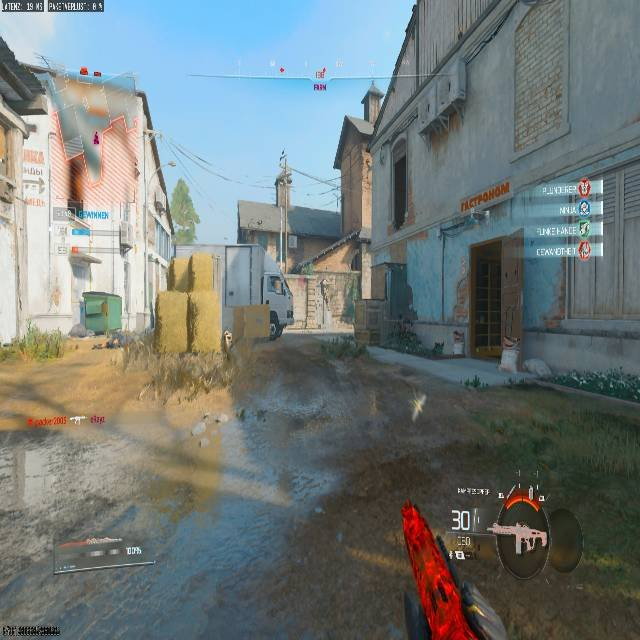player: (266, 277, 292, 339)
